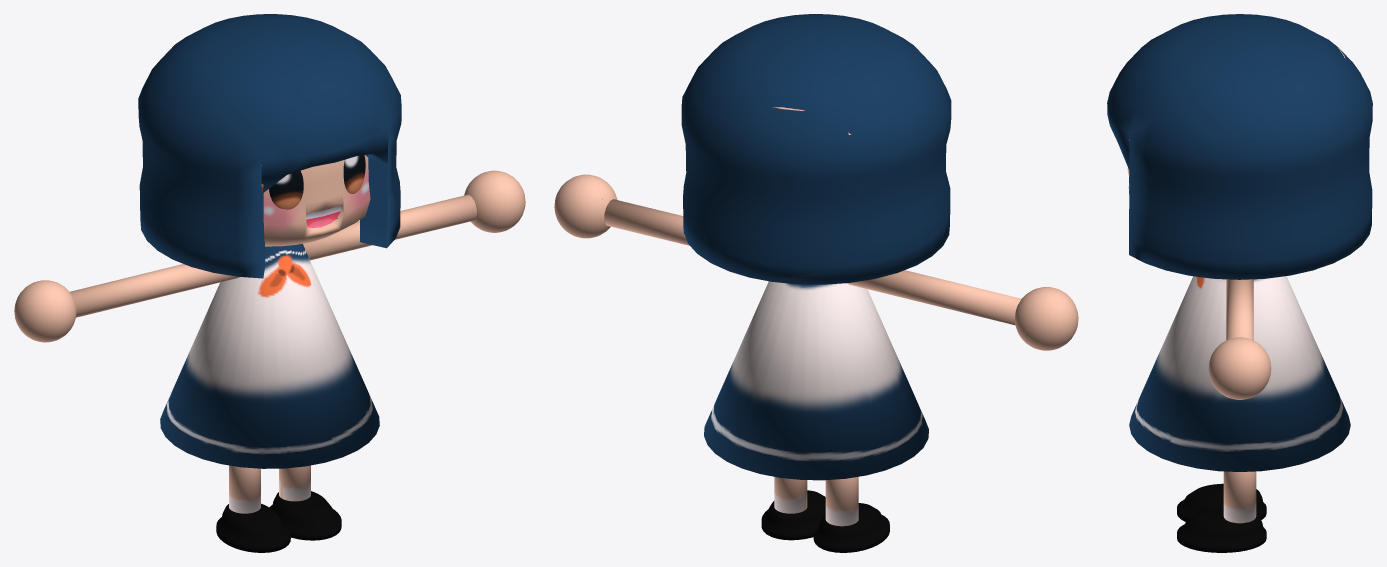
Rendered from student.fbx.
3 views of the same model, side by side, from view 1: azimuth 30°, elevation 25°; view 2: azimuth 150°, elevation 25°; view 3: azimuth 270°, elevation 25° (orthographic). The views are drawn at different scales.
Visible parts, largest first — view 1: Cylinder; view 2: Cylinder; view 3: Cylinder.
Boxes of the visible parts, bbox=[...] form: Cylinder: bbox=[14, 14, 525, 552]; Cylinder: bbox=[554, 14, 1078, 552]; Cylinder: bbox=[1107, 14, 1372, 552].
Bounding box in the file's own units: 528 × 489 × 240.
1 material, 1 textured.
